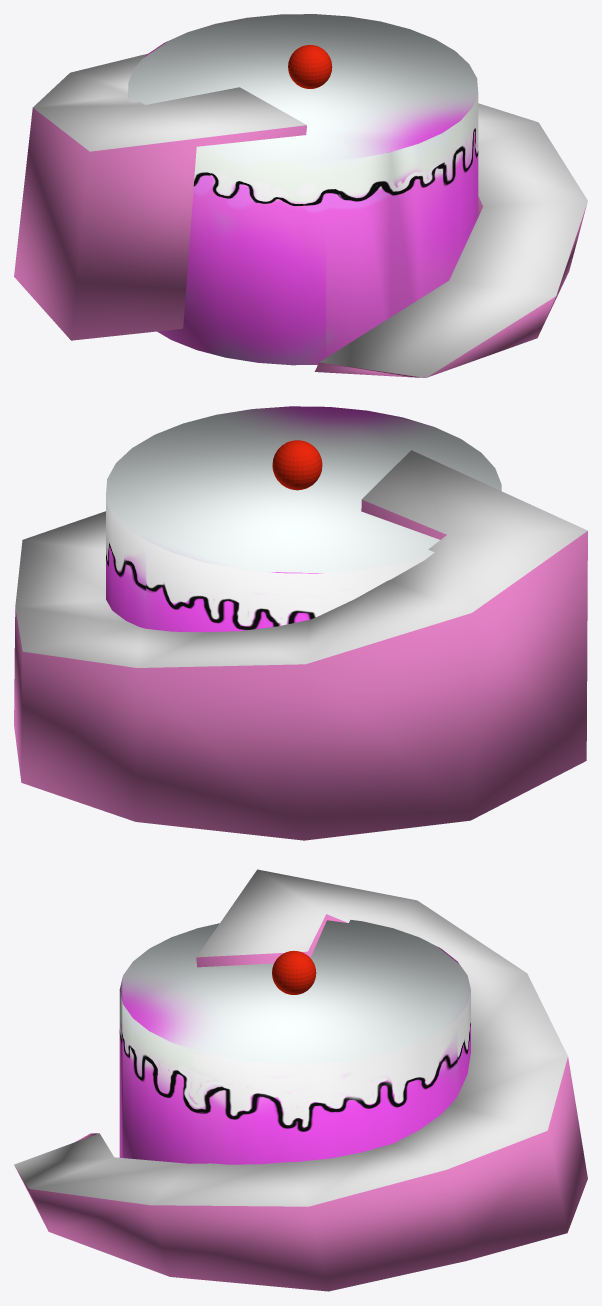
Rendered from pastel.dae.
The picture shows the model from 3 angles, top to bottom: view 1: azimuth 30°, elevation 25°; view 2: azimuth 150°, elevation 25°; view 3: azimuth 270°, elevation 25°; orthographic projection. The views are drawn at different scales.
Parts seen in each view (by area): view 1: tartabre-col, caminotarta-col, Spherebre-col; view 2: caminotarta-col, tartabre-col, Spherebre-col; view 3: caminotarta-col, tartabre-col, Spherebre-col.
Boxes of the visible parts, x1=… form: tartabre-col: x1=128, y1=14, x2=478, y2=365; caminotarta-col: x1=14, y1=53, x2=587, y2=377; Spherebre-col: x1=288, y1=45, x2=332, y2=88; caminotarta-col: x1=14, y1=450, x2=587, y2=840; tartabre-col: x1=106, y1=406, x2=501, y2=632; Spherebre-col: x1=272, y1=440, x2=322, y2=490; caminotarta-col: x1=14, y1=869, x2=587, y2=1291; tartabre-col: x1=119, y1=919, x2=470, y2=1164; Spherebre-col: x1=272, y1=950, x2=316, y2=994.
Size of the model in its own units: 168 by 173 by 80.98.
Materials: 4 (1 with a texture image).
